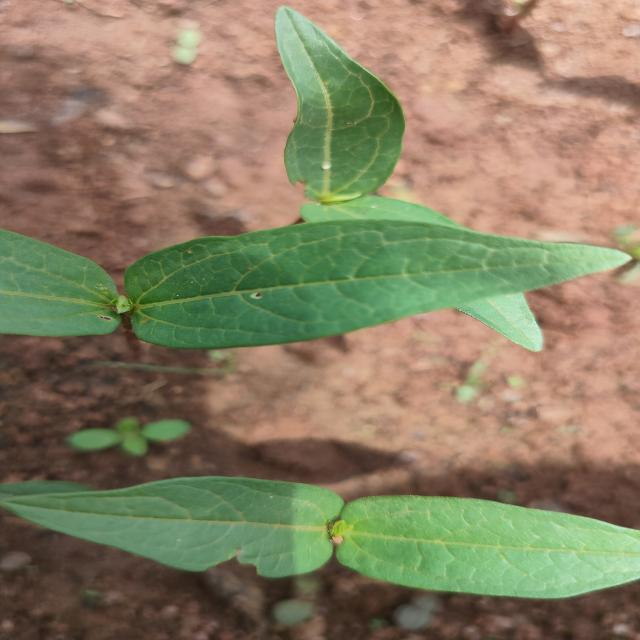Black gram_healthy: (125, 222, 627, 350), (12, 472, 350, 584), (329, 486, 640, 600), (278, 8, 406, 202)
